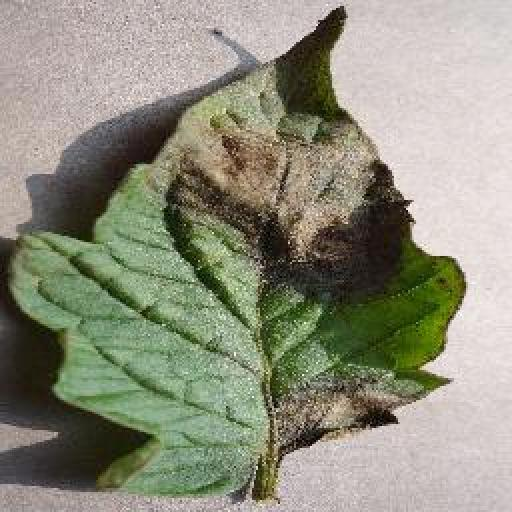disease_tomato: (12, 0, 470, 494)
